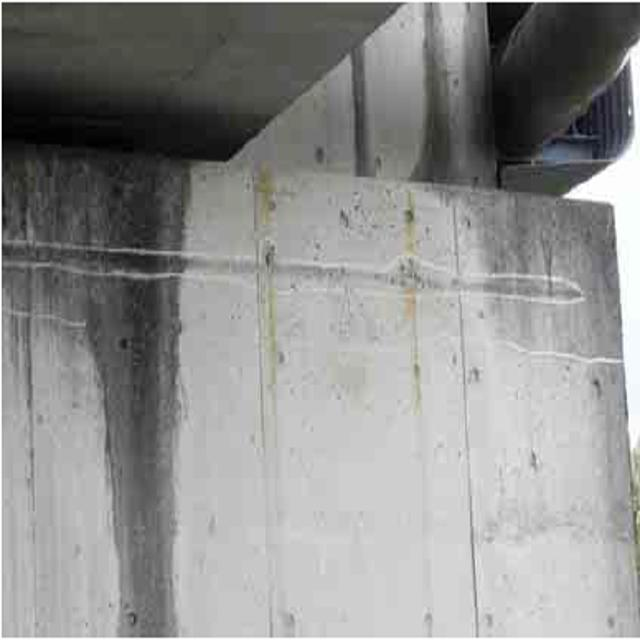leakage: (20, 104, 193, 636), (416, 14, 484, 190)
